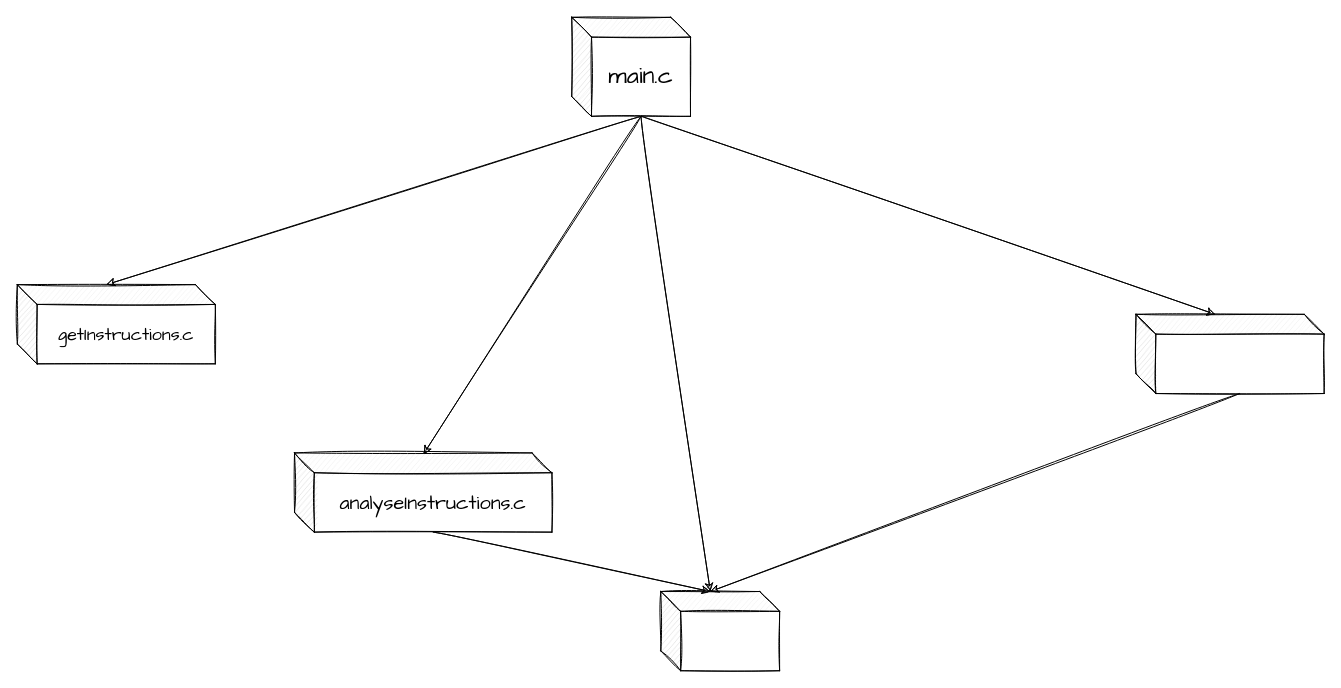
Image size: 1341x688. Some labels were removed from this diagram. Here are the shapes that lost their labels. From the top down, the box of each, then its label:
(1135, 313, 1324, 394): outputInstructions.c
(660, 591, 780, 671): global.h
